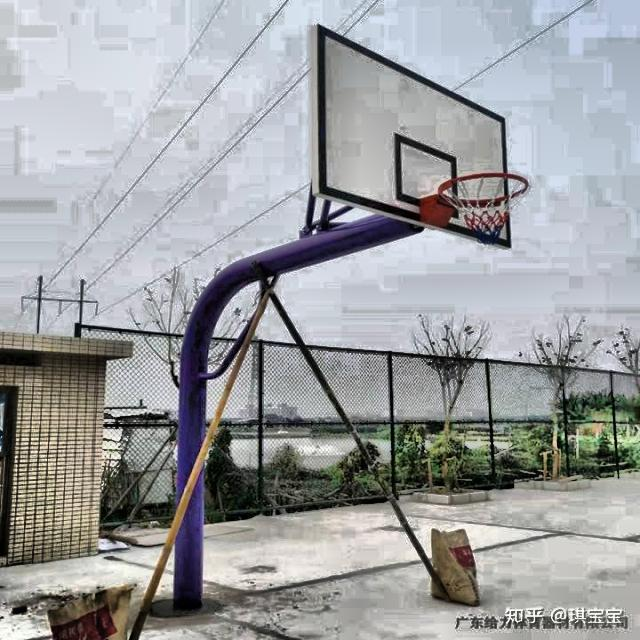rim: (440, 172, 530, 242)
